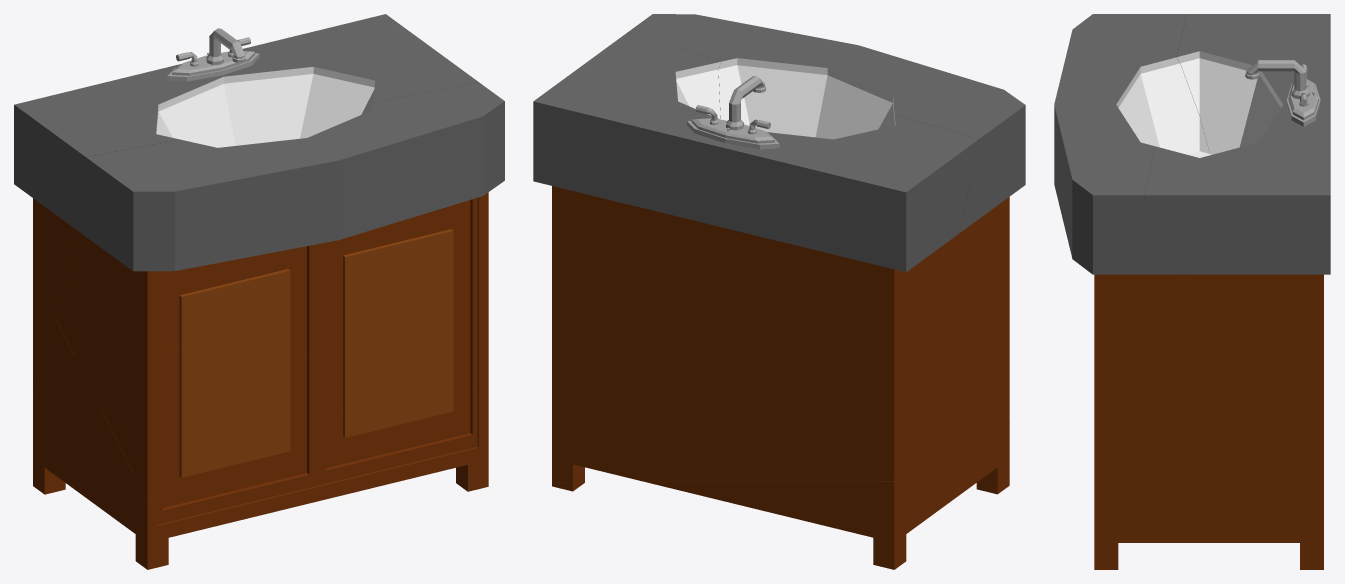
File: Broken Vanity.fbx
The picture shows the model from 3 angles, left to right: view 1: azimuth 30°, elevation 25°; view 2: azimuth 150°, elevation 25°; view 3: azimuth 270°, elevation 25°; orthographic projection.
Visible parts, largest first — view 1: Vanity Bronken_cell.014, Vanity Bronken_cell, Vanity Bronken_cell.019_cell.002, Vanity Bronken_cell.013_cell, Vanity Bronken_cell.013_cell.001, Vanity Bronken_cell.018_cell.003, Vanity Bronken_cell.018_cell.005, Vanity Bronken_cell.019_cell, Vanity Bronken_cell.018_cell, Vanity Bronken_cell.009, Vanity Bronken_cell.013_cell.002, Vanity Bronken_cell.006; view 2: Vanity Bronken_cell.009, Vanity Bronken_cell, Vanity Bronken_cell.014, Vanity Bronken_cell.013_cell, Vanity Bronken_cell.013_cell.001, Vanity Bronken_cell.006; view 3: Vanity Bronken_cell, Vanity Bronken_cell.014, Vanity Bronken_cell.013_cell.002, Vanity Bronken_cell.013_cell, Vanity Bronken_cell.009, Vanity Bronken_cell.006.
Part boxes in pixels (x1,y1,x2,y2): Vanity Bronken_cell.014: [67, 82, 504, 271]; Vanity Bronken_cell: [14, 14, 478, 222]; Vanity Bronken_cell.019_cell.002: [317, 198, 477, 418]; Vanity Bronken_cell.013_cell: [33, 318, 488, 569]; Vanity Bronken_cell.013_cell.001: [56, 233, 157, 500]; Vanity Bronken_cell.018_cell.003: [157, 244, 318, 357]; Vanity Bronken_cell.018_cell.005: [157, 347, 318, 494]; Vanity Bronken_cell.019_cell: [317, 387, 477, 485]; Vanity Bronken_cell.018_cell: [157, 361, 279, 524]; Vanity Bronken_cell.009: [33, 198, 79, 396]; Vanity Bronken_cell.013_cell.002: [477, 192, 488, 407]; Vanity Bronken_cell.006: [167, 28, 259, 81]; Vanity Bronken_cell.009: [552, 186, 941, 481]; Vanity Bronken_cell: [533, 33, 978, 272]; Vanity Bronken_cell.014: [627, 14, 1025, 232]; Vanity Bronken_cell.013_cell: [552, 368, 1009, 569]; Vanity Bronken_cell.013_cell.001: [917, 197, 1009, 416]; Vanity Bronken_cell.006: [687, 76, 779, 149]; Vanity Bronken_cell: [1144, 14, 1330, 274]; Vanity Bronken_cell.014: [1054, 14, 1209, 274]; Vanity Bronken_cell.013_cell.002: [1094, 274, 1243, 488]; Vanity Bronken_cell.013_cell: [1094, 395, 1323, 569]; Vanity Bronken_cell.009: [1187, 274, 1323, 564]; Vanity Bronken_cell.006: [1245, 60, 1320, 126].
Size of the model in its own units: 549 by 603 by 354.
